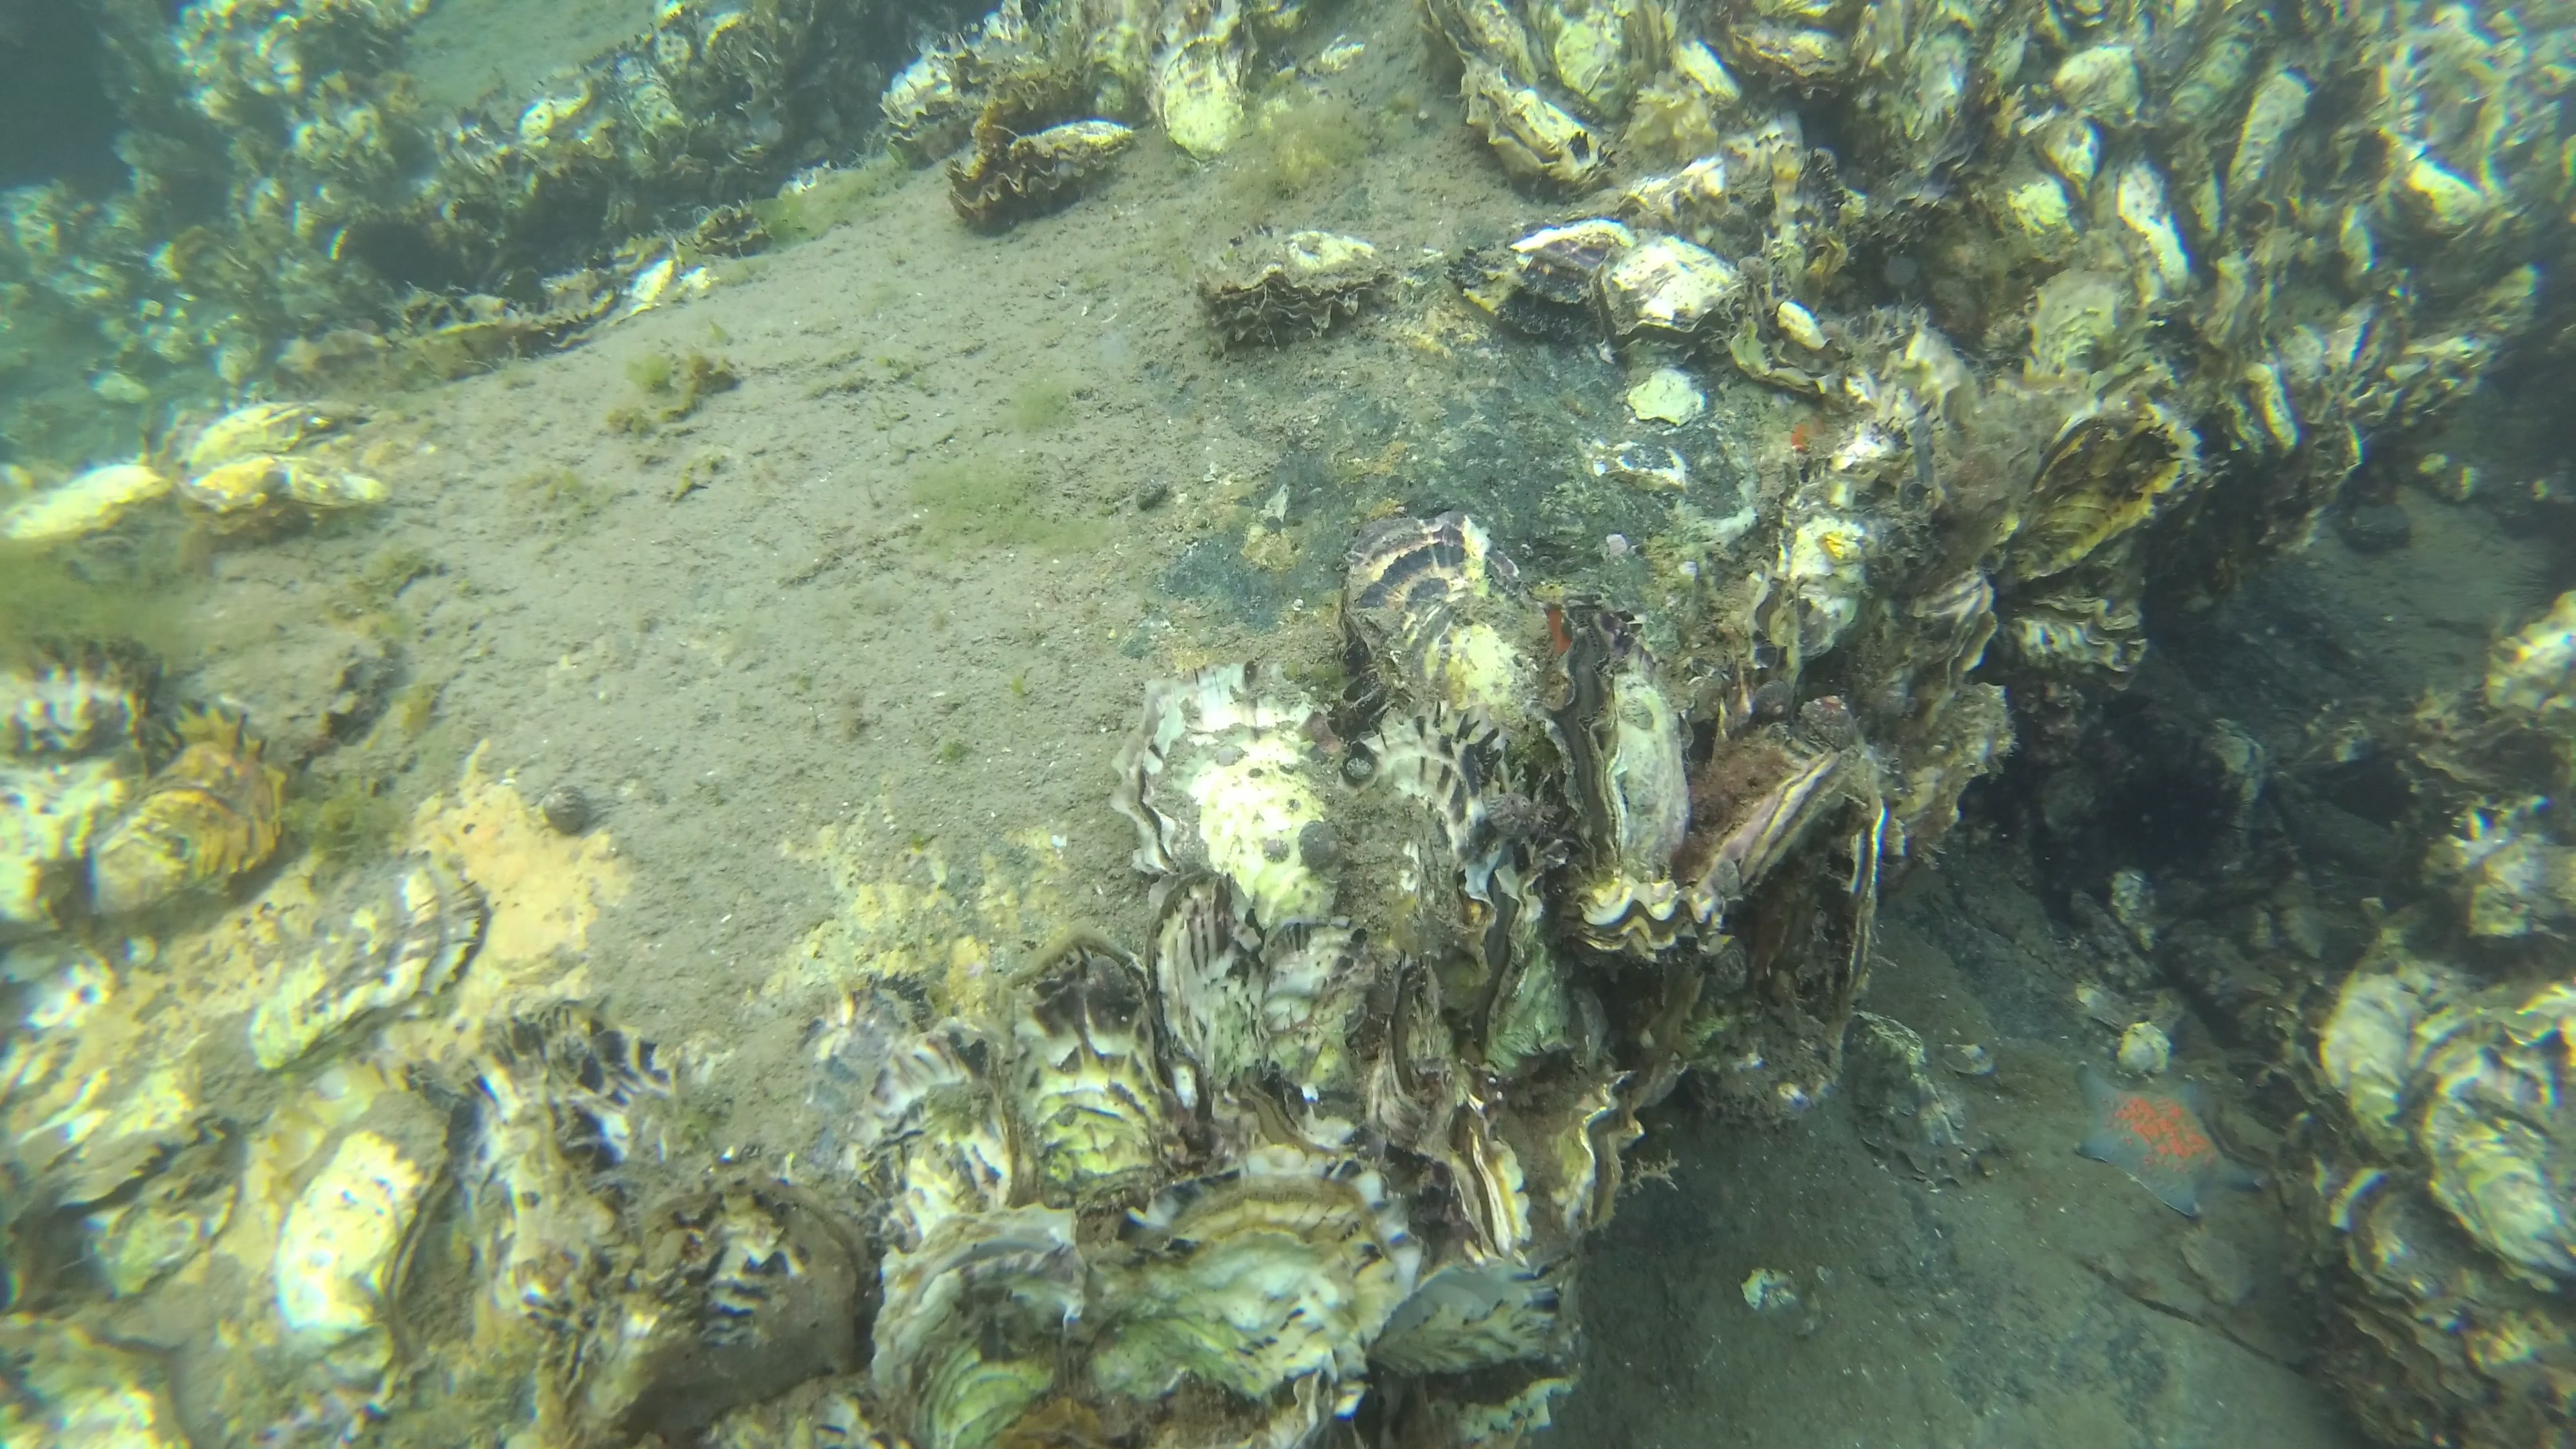starfish: (2079, 1072, 2259, 1219)
